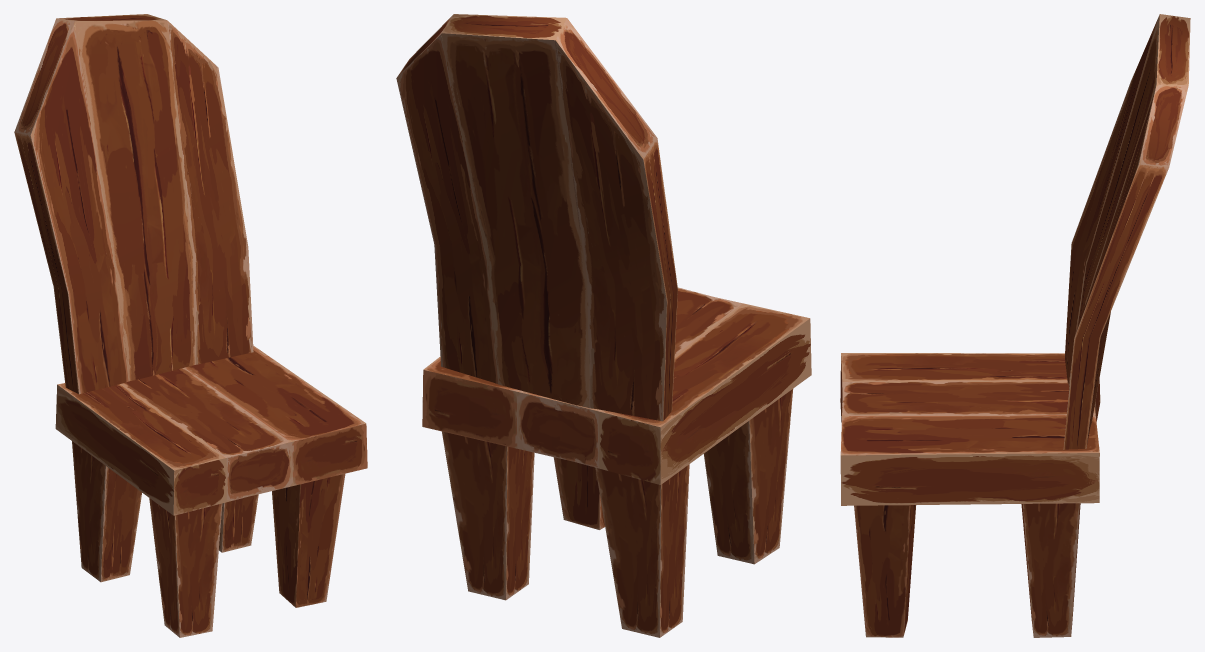
Rendered from SM_PROP_chair_02.fbx.
3 views of the same model, side by side, from view 1: azimuth 30°, elevation 25°; view 2: azimuth 150°, elevation 25°; view 3: azimuth 270°, elevation 25° (orthographic). The views are drawn at different scales.
Visible parts, largest first — view 1: SM_PROP_chair_02; view 2: SM_PROP_chair_02; view 3: SM_PROP_chair_02.
Boxes of the visible parts, x1,y1,x2,y2 form: SM_PROP_chair_02: [14, 14, 367, 637]; SM_PROP_chair_02: [396, 14, 811, 637]; SM_PROP_chair_02: [840, 14, 1190, 637].
Size of the model in its own units: 49.63 by 117 by 66.06.
